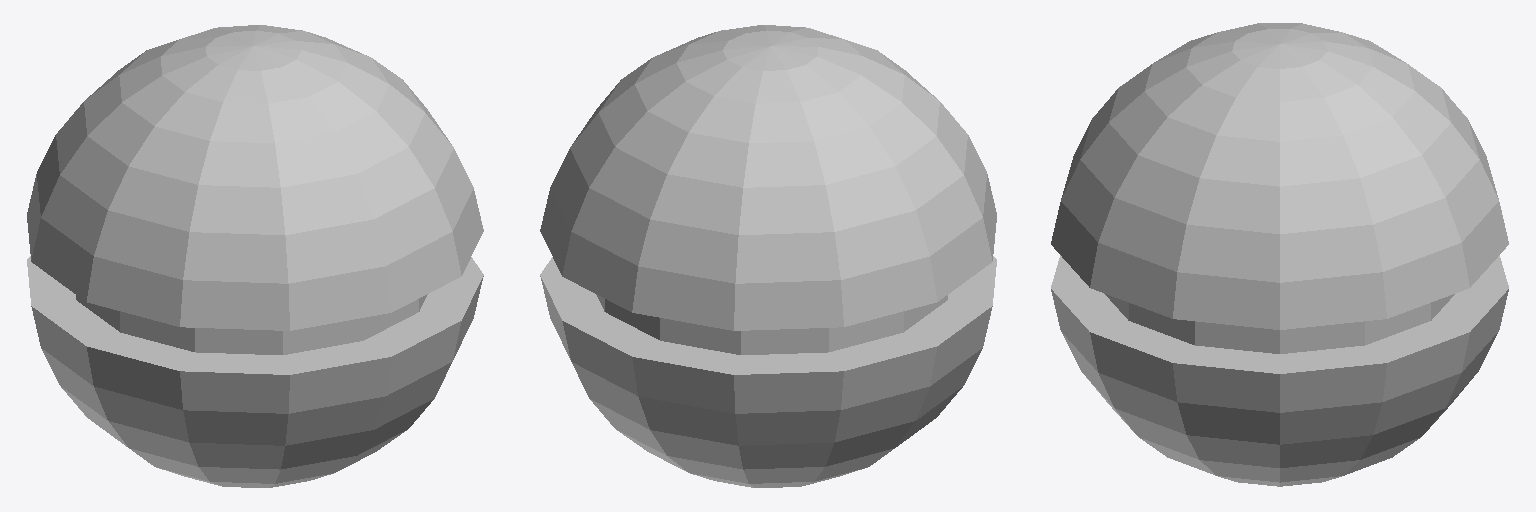
File: wall.obj
3 views of the same model, side by side, from view 1: azimuth 30°, elevation 25°; view 2: azimuth 150°, elevation 25°; view 3: azimuth 270°, elevation 25° (orthographic).
Parts seen in each view (by area): view 1: wall; view 2: wall; view 3: wall.
Part boxes in pixels (left/top/right/bottom): wall: left=27, top=25, right=483, bottom=487; wall: left=540, top=25, right=996, bottom=487; wall: left=1051, top=23, right=1508, bottom=486.
Size of the model in its own units: 0.9801 by 1 by 0.9873.